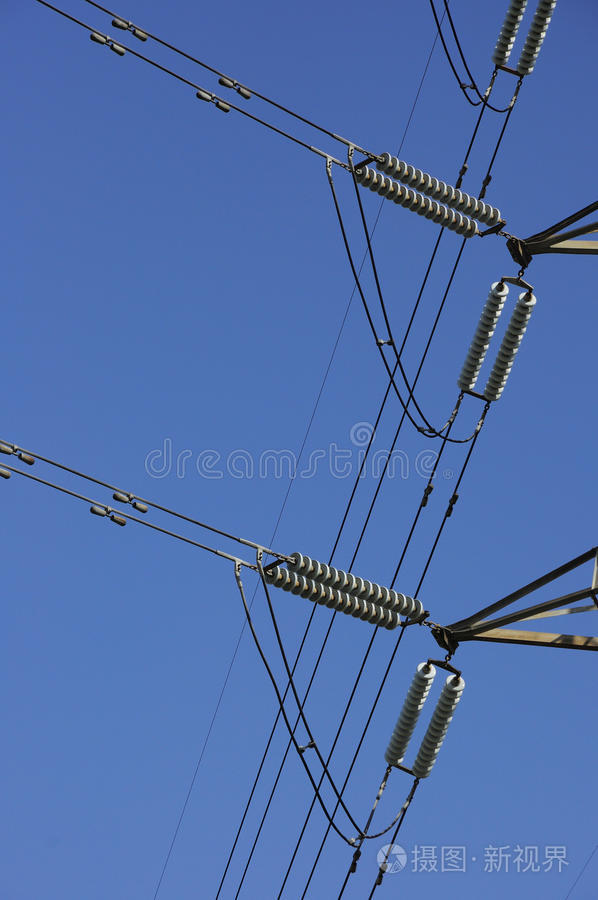insulator: (266, 549, 426, 629), (349, 155, 497, 237), (456, 280, 537, 402), (383, 664, 463, 779), (492, 1, 557, 71)
